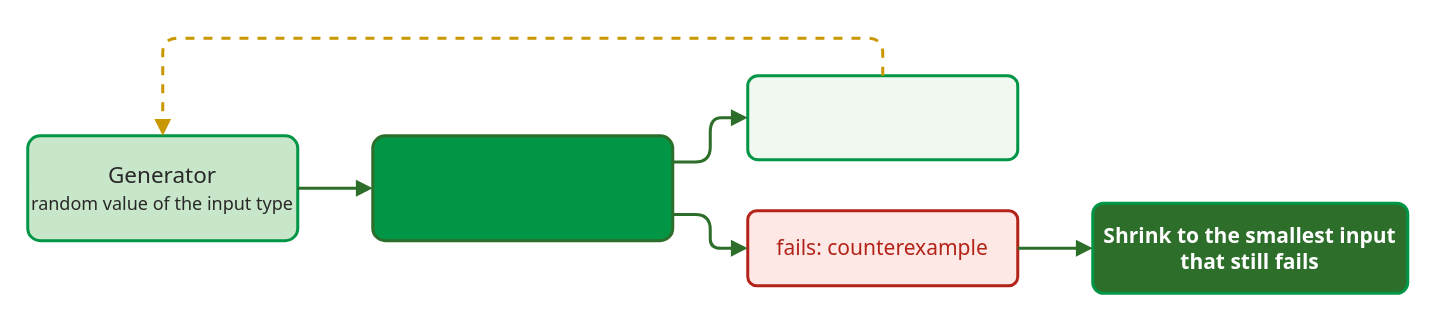
This 1434x320 diagram has some shape labels left out. The shapes that lost their labels are listed below. From the top down, each one's centre as x and y in pixels, then its label:
At (882,117): "holds: next input (100 by default)".
At (522,188): "Check the property e.g. decode(encode(s)) == s".
